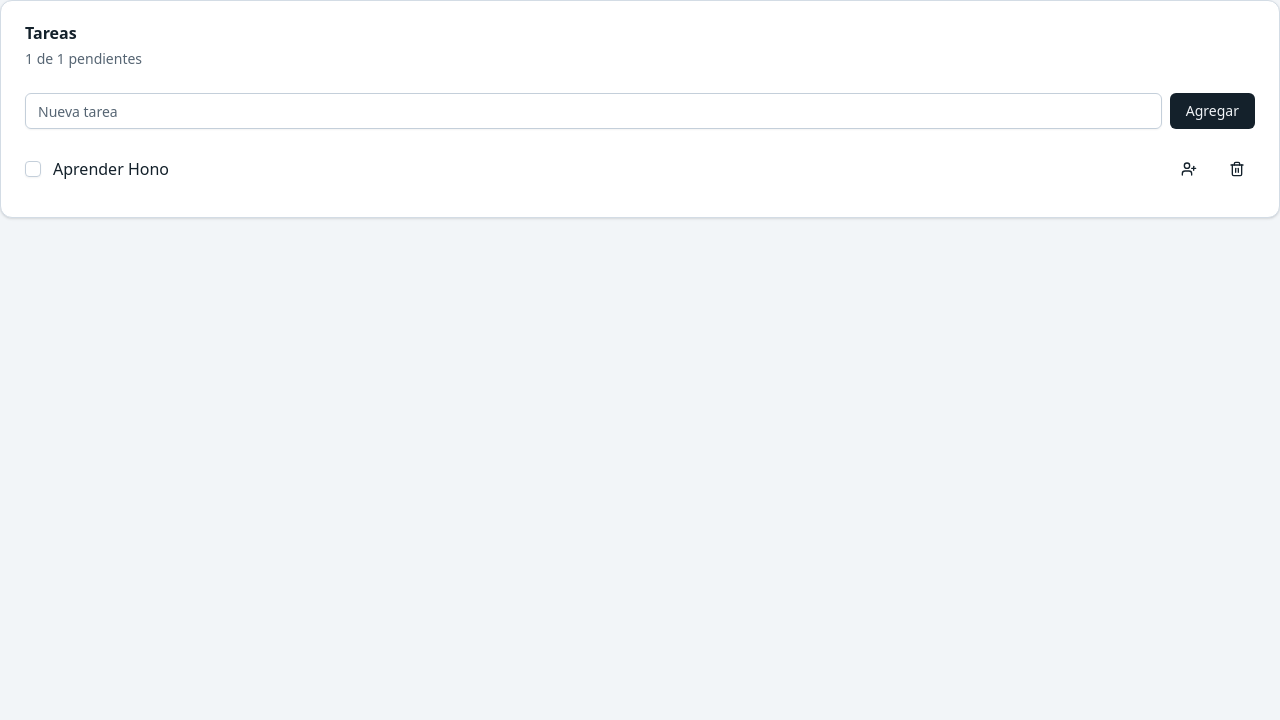
TasksApp › usuarios asignados › revierte la asignación y muestra el error si la API falla
Click the button named "Asignar usuarios a Aprender Hono".
click(1189, 169)  # box top-left (1171, 151), bottom-right (1207, 187)
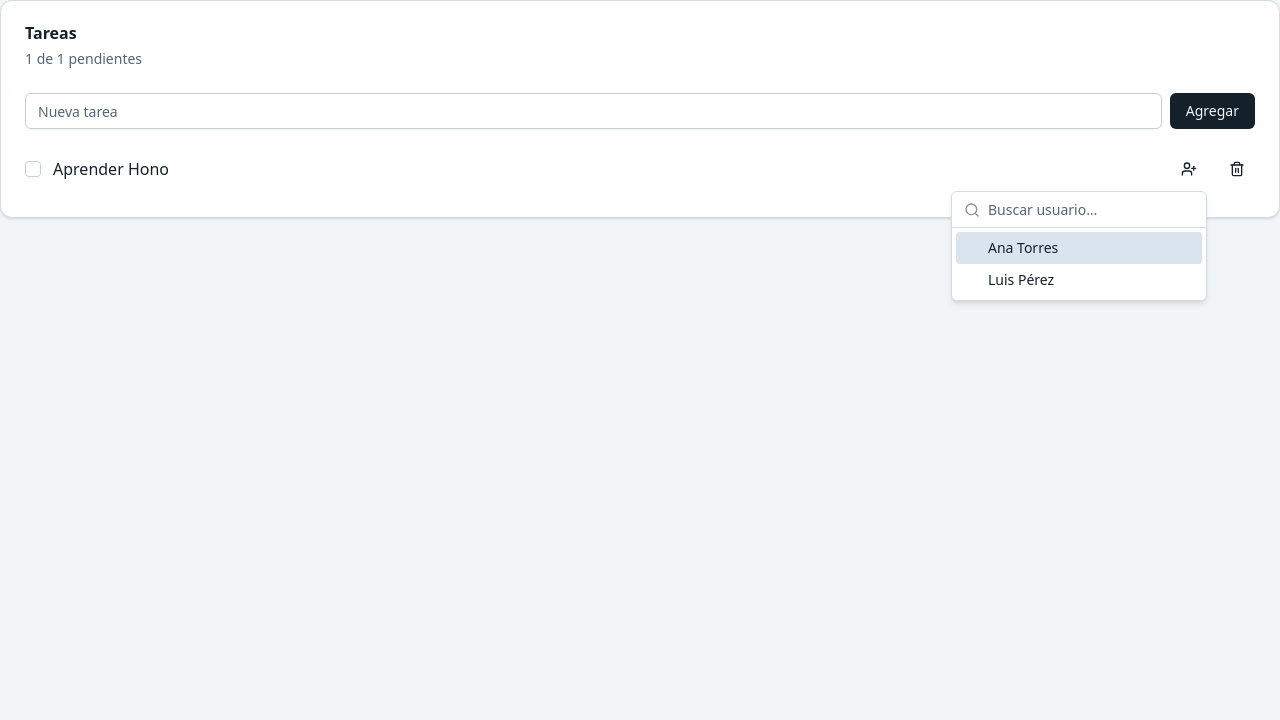
Click the option "Ana Torres".
click(1079, 248)  # box top-left (956, 232), bottom-right (1202, 264)
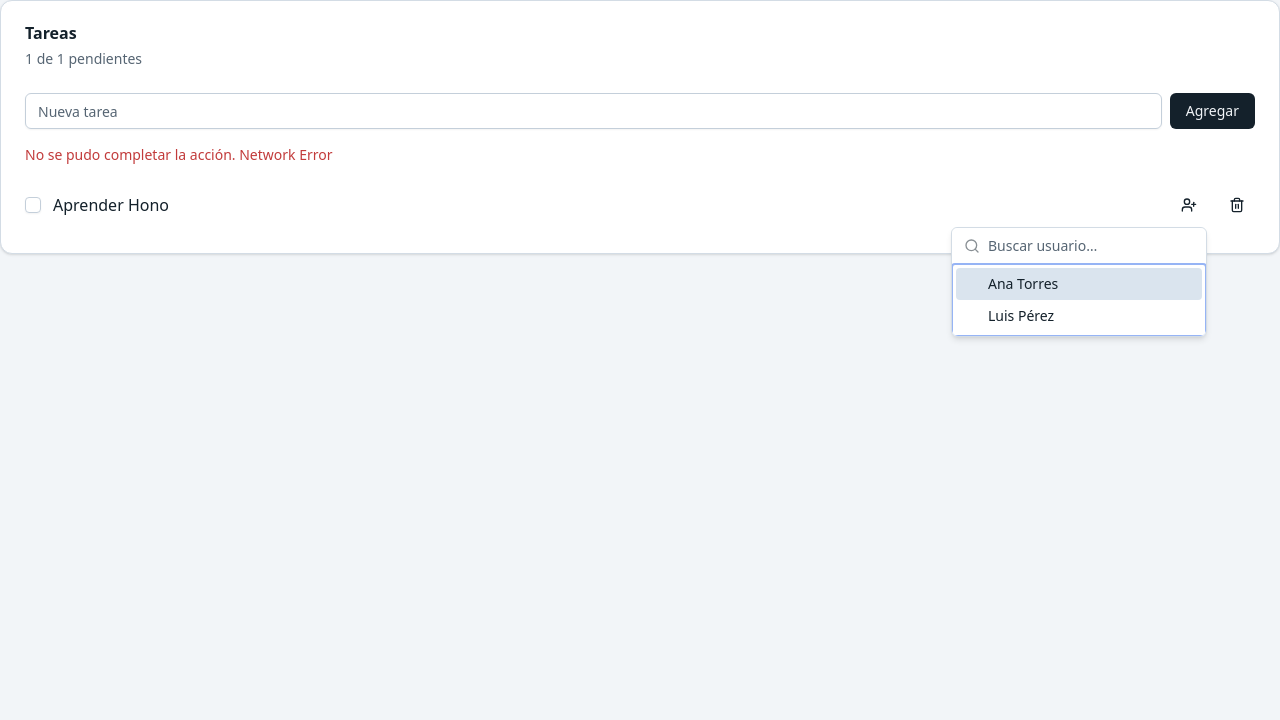
Now the text "No se pudo completar la acción. Network Error" is shown, box top-left (25, 145), bottom-right (332, 164)
